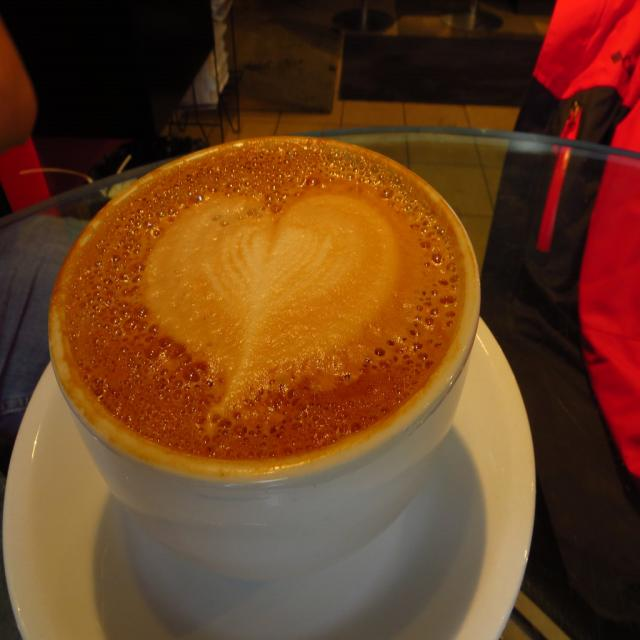latte: (51, 134, 482, 484)
